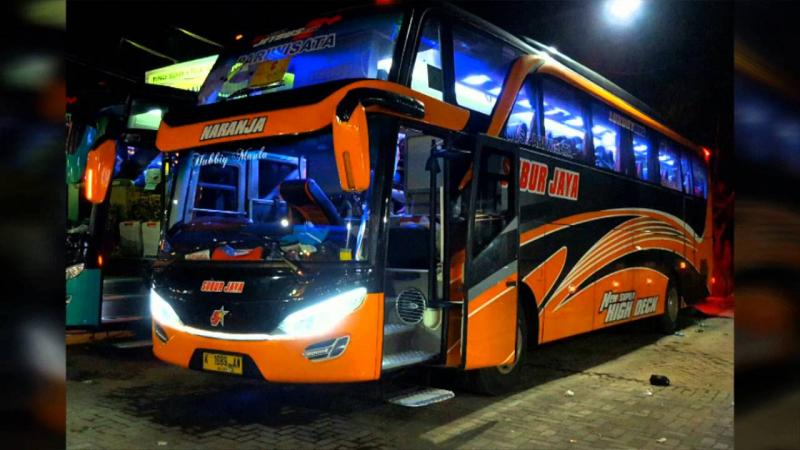plate: (202, 354, 240, 373)
